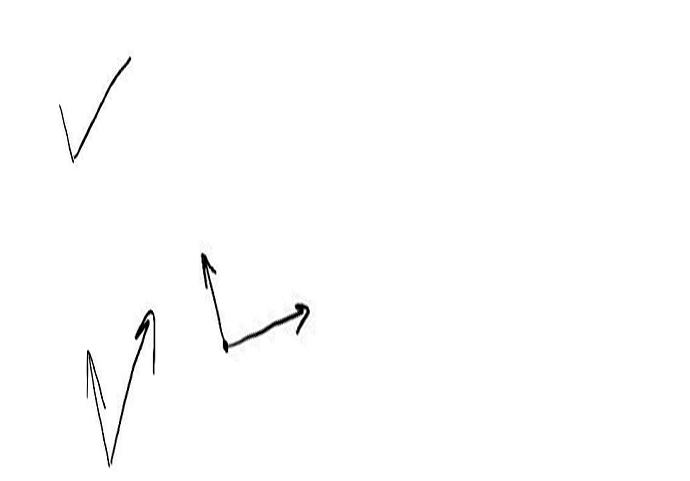arrow: (227, 300, 311, 349), (84, 346, 108, 466), (200, 252, 224, 349)
arrownohead: (110, 311, 158, 469), (74, 55, 132, 156), (56, 104, 73, 163)
